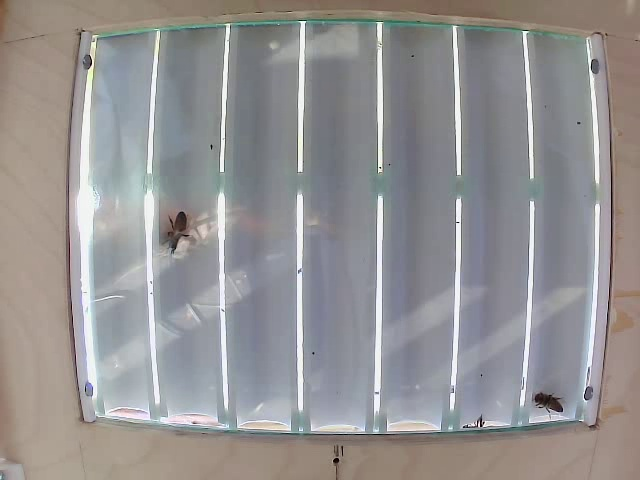bee: (524, 378, 570, 425), (162, 208, 210, 250)
